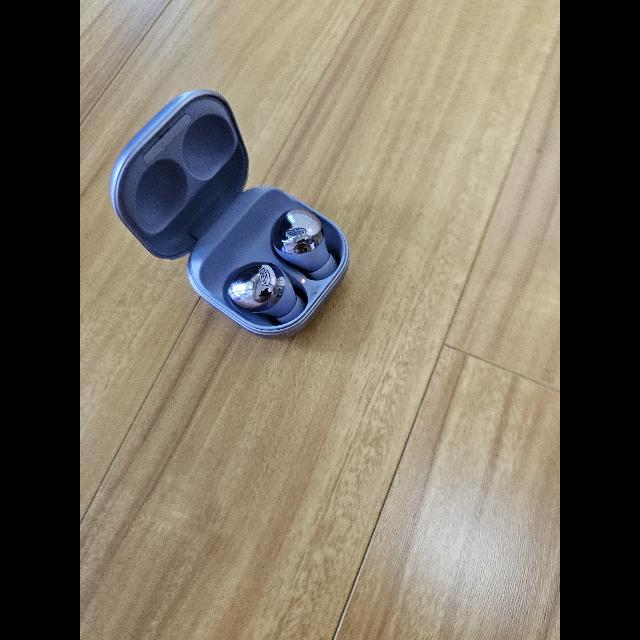buds-pro: (106, 87, 354, 340)
